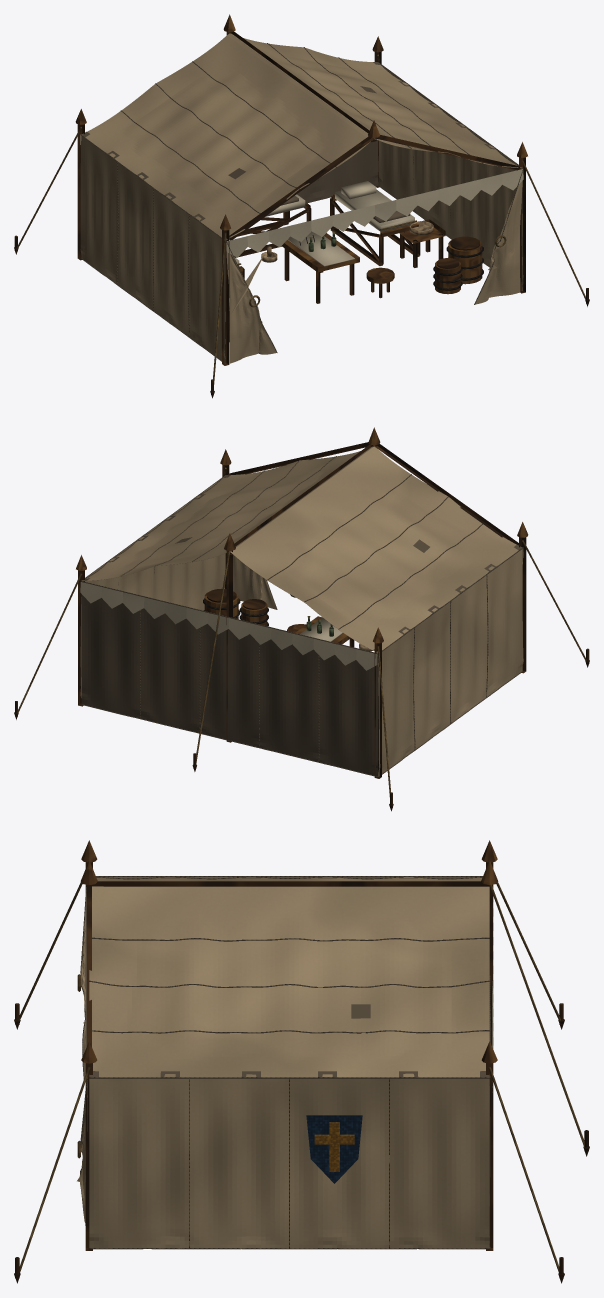
File: medieval_medical_tent_3d_runtime.glb
3 views of the same model, one above another, from view 1: azimuth 30°, elevation 25°; view 2: azimuth 150°, elevation 25°; view 3: azimuth 270°, elevation 25° (orthographic). The views are drawn at different scales.
Visible parts, largest first — view 1: MEDICAL_TENT_CLOTH_MED_ROOF_-1, MEDICAL_TENT_CLOTH_MED_SIDE_-1, MEDICAL_TENT_CLOTH_MED_ROOF_1, MEDICAL_TENT_WOOD_DARK_BATCH, MEDICAL_TENT_CLOTH_MED_SIDE_1, MEDICAL_TENT_MEDICAL_LINEN_BATCH, MEDICAL_TENT_WOOD_MID_BATCH, MEDICAL_TENT_CANVAS_DARK_BATCH, MEDICAL_TENT_CLOTH_MED_FRONT_WING_-1, MEDICAL_TENT_CLOTH_MED_FRONT_WING_1, MEDICAL_TENT_CLOTH_MED_REAR, MEDICAL_TENT_ROPE_BATCH (+1 smaller); view 2: MEDICAL_TENT_CLOTH_MED_REAR, MEDICAL_TENT_CLOTH_MED_ROOF_-1, MEDICAL_TENT_CLOTH_MED_SIDE_-1, MEDICAL_TENT_CLOTH_MED_ROOF_1, MEDICAL_TENT_WOOD_DARK_BATCH, MEDICAL_TENT_MEDICAL_LINEN_BATCH, MEDICAL_TENT_CANVAS_DARK_BATCH, MEDICAL_TENT_CLOTH_MED_SIDE_1, MEDICAL_TENT_WOOD_MID_BATCH, MEDICAL_TENT_ROPE_BATCH, MEDICAL_TENT_CLOTH_MED_FRONT_WING_1; view 3: MEDICAL_TENT_CLOTH_MED_ROOF_1, MEDICAL_TENT_CLOTH_MED_SIDE_1, MEDICAL_TENT_CANVAS_DARK_BATCH, MEDICAL_TENT_WOOD_DARK_BATCH, MEDICAL_TENT_ROPE_BATCH, MEDICAL_TENT_HERALDRY_BLUE_BATCH, MEDICAL_TENT_CLOTH_MED_ROOF_-1, MEDICAL_TENT_WOOD_MID_BATCH, MEDICAL_TENT_HERALDRY_GOLD_BATCH.
Boxes of the visible parts, box(x1,y1,x2,y2) form: MEDICAL_TENT_CLOTH_MED_ROOF_-1: box(85, 33, 370, 240); MEDICAL_TENT_CLOTH_MED_SIDE_-1: box(80, 136, 225, 363); MEDICAL_TENT_CLOTH_MED_ROOF_1: box(230, 33, 521, 168); MEDICAL_TENT_WOOD_DARK_BATCH: box(14, 31, 589, 398); MEDICAL_TENT_CLOTH_MED_SIDE_1: box(378, 67, 523, 290); MEDICAL_TENT_MEDICAL_LINEN_BATCH: box(80, 134, 523, 310); MEDICAL_TENT_WOOD_MID_BATCH: box(75, 14, 527, 297); MEDICAL_TENT_CANVAS_DARK_BATCH: box(80, 43, 523, 363); MEDICAL_TENT_CLOTH_MED_FRONT_WING_-1: box(226, 243, 276, 363); MEDICAL_TENT_CLOTH_MED_FRONT_WING_1: box(475, 181, 522, 304); MEDICAL_TENT_CLOTH_MED_REAR: box(297, 140, 378, 202); MEDICAL_TENT_ROPE_BATCH: box(17, 54, 585, 384); MEDICAL_TENT_CLOTH_MED_REAR: box(81, 582, 378, 776); MEDICAL_TENT_CLOTH_MED_ROOF_-1: box(230, 446, 518, 653); MEDICAL_TENT_CLOTH_MED_SIDE_-1: box(378, 549, 523, 776); MEDICAL_TENT_CLOTH_MED_ROOF_1: box(82, 446, 373, 580); MEDICAL_TENT_WOOD_DARK_BATCH: box(14, 442, 589, 811); MEDICAL_TENT_MEDICAL_LINEN_BATCH: box(80, 547, 523, 670); MEDICAL_TENT_CANVAS_DARK_BATCH: box(81, 456, 523, 776); MEDICAL_TENT_CLOTH_MED_SIDE_1: box(80, 480, 225, 697); MEDICAL_TENT_WOOD_MID_BATCH: box(76, 427, 528, 644); MEDICAL_TENT_ROPE_BATCH: box(18, 467, 586, 796); MEDICAL_TENT_CLOTH_MED_FRONT_WING_1: box(233, 555, 276, 609); MEDICAL_TENT_CLOTH_MED_ROOF_1: box(89, 886, 489, 1077); MEDICAL_TENT_CLOTH_MED_SIDE_1: box(89, 1078, 489, 1248); MEDICAL_TENT_CANVAS_DARK_BATCH: box(80, 876, 490, 1249); MEDICAL_TENT_WOOD_DARK_BATCH: box(14, 862, 589, 1283); MEDICAL_TENT_ROPE_BATCH: box(18, 882, 584, 1273); MEDICAL_TENT_HERALDRY_BLUE_BATCH: box(306, 1115, 362, 1183); MEDICAL_TENT_CLOTH_MED_ROOF_-1: box(92, 877, 481, 886); MEDICAL_TENT_WOOD_MID_BATCH: box(80, 840, 498, 1063); MEDICAL_TENT_HERALDRY_GOLD_BATCH: box(314, 1122, 354, 1171).
Size of the model in its own units: 9.7 by 5.24 by 9.21.
13 materials, 13 textured.
